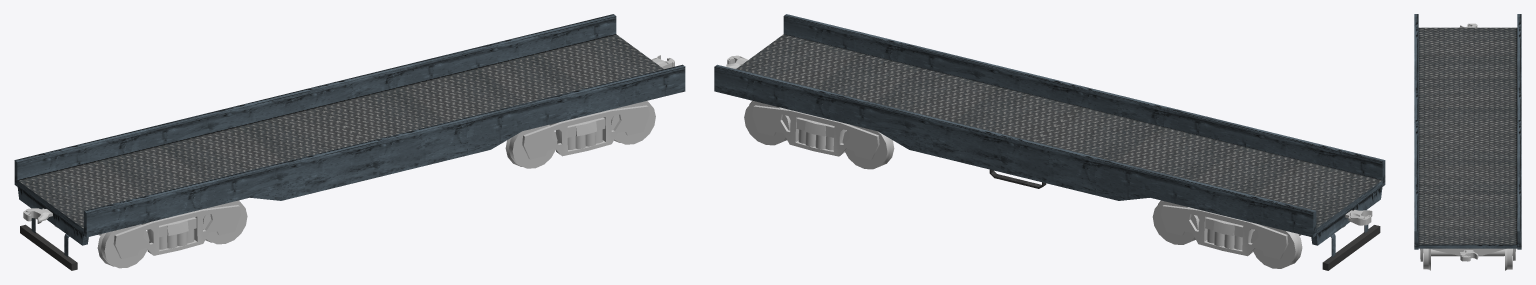
File: TrainFlatcar010.FBX
3 renders of one model, left to right at view 1: azimuth 30°, elevation 25°; view 2: azimuth 150°, elevation 25°; view 3: azimuth 270°, elevation 25°, orthographic. The views are drawn at different scales.
Visible parts, largest first — view 1: TrainFlatcar010, TrainFlatcar0Wheels, TrainFlatcar0Detail; view 2: TrainFlatcar010, TrainFlatcar0Wheels, TrainFlatcar0Detail; view 3: TrainFlatcar010, TrainFlatcar0Wheels, TrainFlatcar0Detail.
Boxes of the visible parts, box(x1,y1,x2,y2) form: TrainFlatcar010: box(14, 14, 685, 270); TrainFlatcar0Wheels: box(54, 100, 655, 268); TrainFlatcar0Detail: box(23, 55, 674, 223); TrainFlatcar010: box(714, 14, 1385, 270); TrainFlatcar0Wheels: box(744, 100, 1345, 268); TrainFlatcar0Detail: box(726, 55, 1372, 225); TrainFlatcar010: box(1414, 14, 1521, 249); TrainFlatcar0Wheels: box(1420, 248, 1515, 270); TrainFlatcar0Detail: box(1429, 23, 1506, 261).
Bounding box in the file's own units: 809 × 87.44 × 157.
